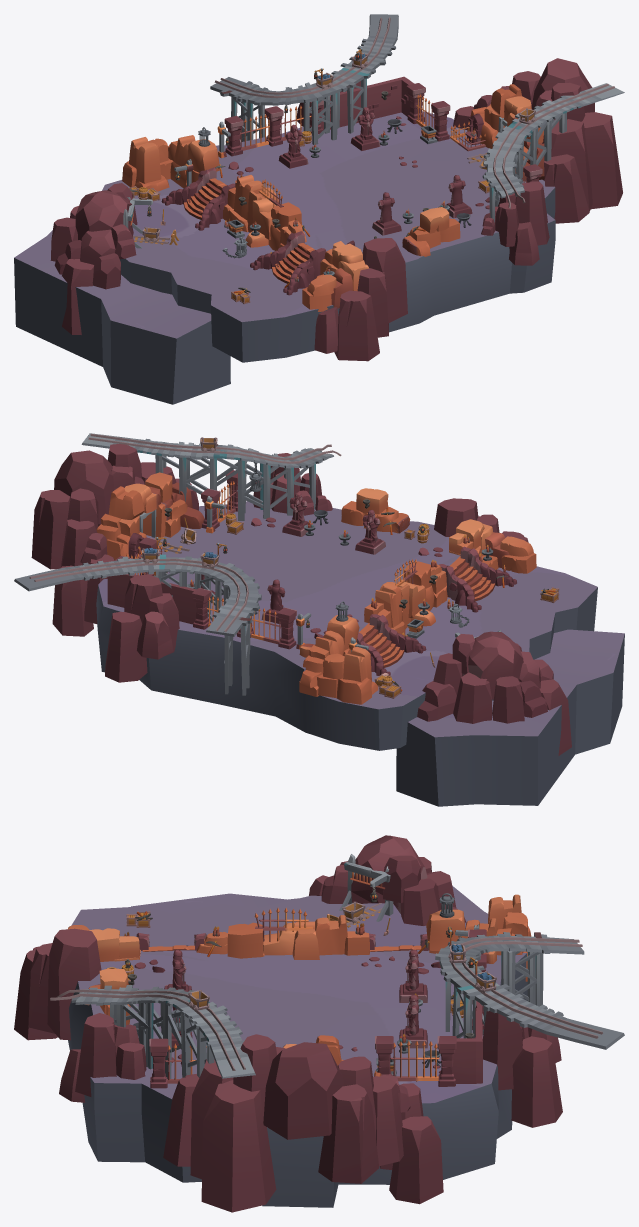
File: cave_inside_for_level_3.fbx
3 views of the same model, one above another, from view 1: azimuth 30°, elevation 25°; view 2: azimuth 150°, elevation 25°; view 3: azimuth 270°, elevation 25° (orthographic). The views are drawn at different scales.
Visible parts, largest first — view 1: Plane.006, Cube.599, Cube.635, Circle.337, Circle.339, Circle.338, Circle.275, Plane.023, Cube.617, Circle.342, Circle.256, Cube.596 (+34 smaller); view 2: Plane.006, Cube.599, Plane.023, Cube.635, Circle.271, Circle.265, Circle.334, Circle.342, Cube.658, Circle.279, Cube.596, Circle.347 (+39 smaller); view 3: Plane.006, Circle.337, Circle.265, Cube.599, Circle.271, Cube.635, Circle.334, Circle.338, Circle.279, Plane.023, Circle.282, Circle.274 (+36 smaller).
Boxes of the visible parts, left/top/right/bottom form: Plane.006: left=14, top=111, right=555, bottom=404; Cube.599: left=210, top=14, right=398, bottom=105; Cube.635: left=482, top=83, right=624, bottom=198; Circle.337: left=582, top=112, right=622, bottom=209; Circle.339: left=334, top=290, right=379, bottom=361; Circle.338: left=362, top=238, right=407, bottom=323; Circle.275: left=544, top=154, right=589, bottom=223; Plane.023: left=214, top=17, right=614, bottom=208; Cube.617: left=320, top=76, right=414, bottom=129; Circle.342: left=75, top=190, right=133, bottom=240; Circle.256: left=542, top=119, right=592, bottom=211; Cube.596: left=250, top=231, right=325, bottom=295; Plane.006: left=96, top=501, right=624, bottom=806; Cube.599: left=14, top=554, right=261, bottom=636; Plane.023: left=29, top=433, right=341, bottom=632; Cube.635: left=81, top=433, right=333, bottom=468; Circle.271: left=31, top=490, right=70, bottom=569; Circle.265: left=54, top=450, right=114, bottom=524; Circle.334: left=105, top=611, right=147, bottom=682; Circle.342: left=463, top=631, right=523, bottom=699; Cube.658: left=162, top=456, right=263, bottom=520; Circle.279: left=52, top=565, right=93, bottom=636; Cube.596: left=439, top=546, right=516, bottom=612; Circle.347: left=453, top=672, right=491, bottom=723; Plane.006: left=68, top=886, right=527, bottom=1207; Circle.337: left=201, top=1080, right=276, bottom=1212; Circle.265: left=263, top=1042, right=343, bottom=1139; Cube.599: left=435, top=932, right=624, bottom=1049; Circle.271: left=318, top=1084, right=379, bottom=1183; Cube.635: left=71, top=985, right=255, bottom=1078; Circle.334: left=511, top=1036, right=562, bottom=1127; Circle.338: left=47, top=928, right=101, bottom=1040; Circle.279: left=389, top=1116, right=443, bottom=1204; Plane.023: left=50, top=937, right=602, bottom=1070; Circle.282: left=75, top=1013, right=116, bottom=1096; Circle.274: left=373, top=1076, right=403, bottom=1166.
Bounding box in the file's own units: 17.74 × 6.19 × 13.95.
